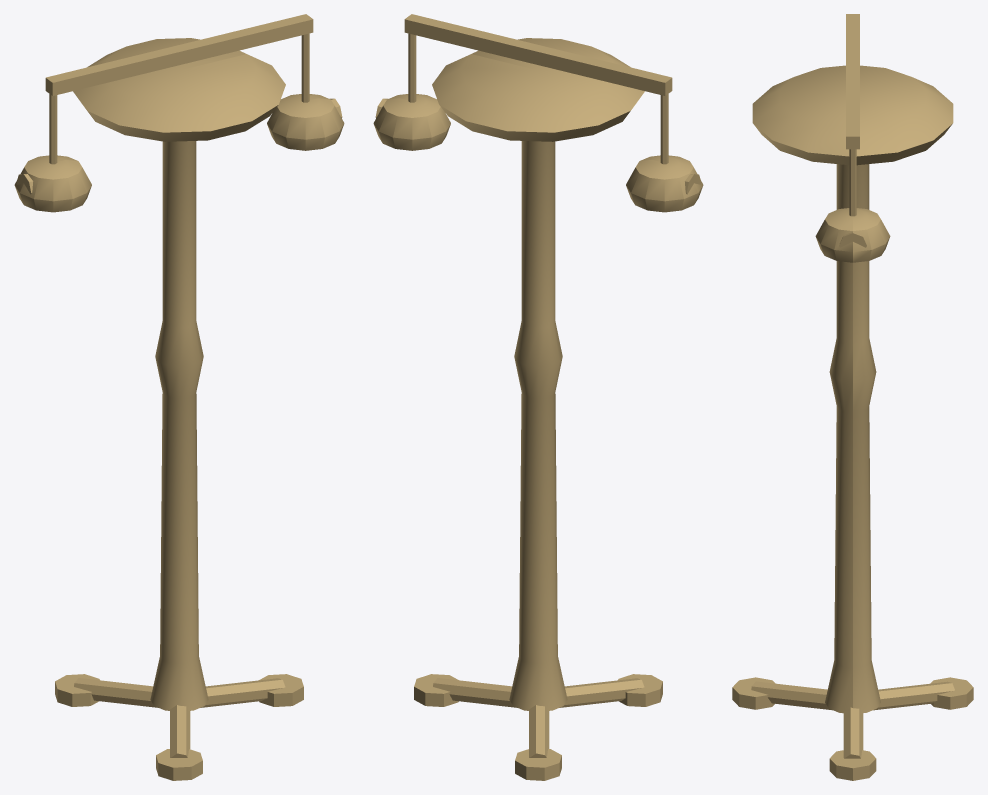
The model's file is roman-bathhouse-and-palaestra-lamp-stand-d4dcdc13__37895.glb.
3 views of the same model, side by side, from view 1: azimuth 30°, elevation 25°; view 2: azimuth 150°, elevation 25°; view 3: azimuth 270°, elevation 25° (orthographic). The views are drawn at different scales.
Visible parts, largest first — view 1: lamp-stand; view 2: lamp-stand; view 3: lamp-stand.
Boxes of the visible parts, x1,y1,x2,y2 form: lamp-stand: (14,14,344,780); lamp-stand: (373,14,703,780); lamp-stand: (732,14,973,780).
Bounding box in the file's own units: 0.7599 × 1.53 × 0.5156.
